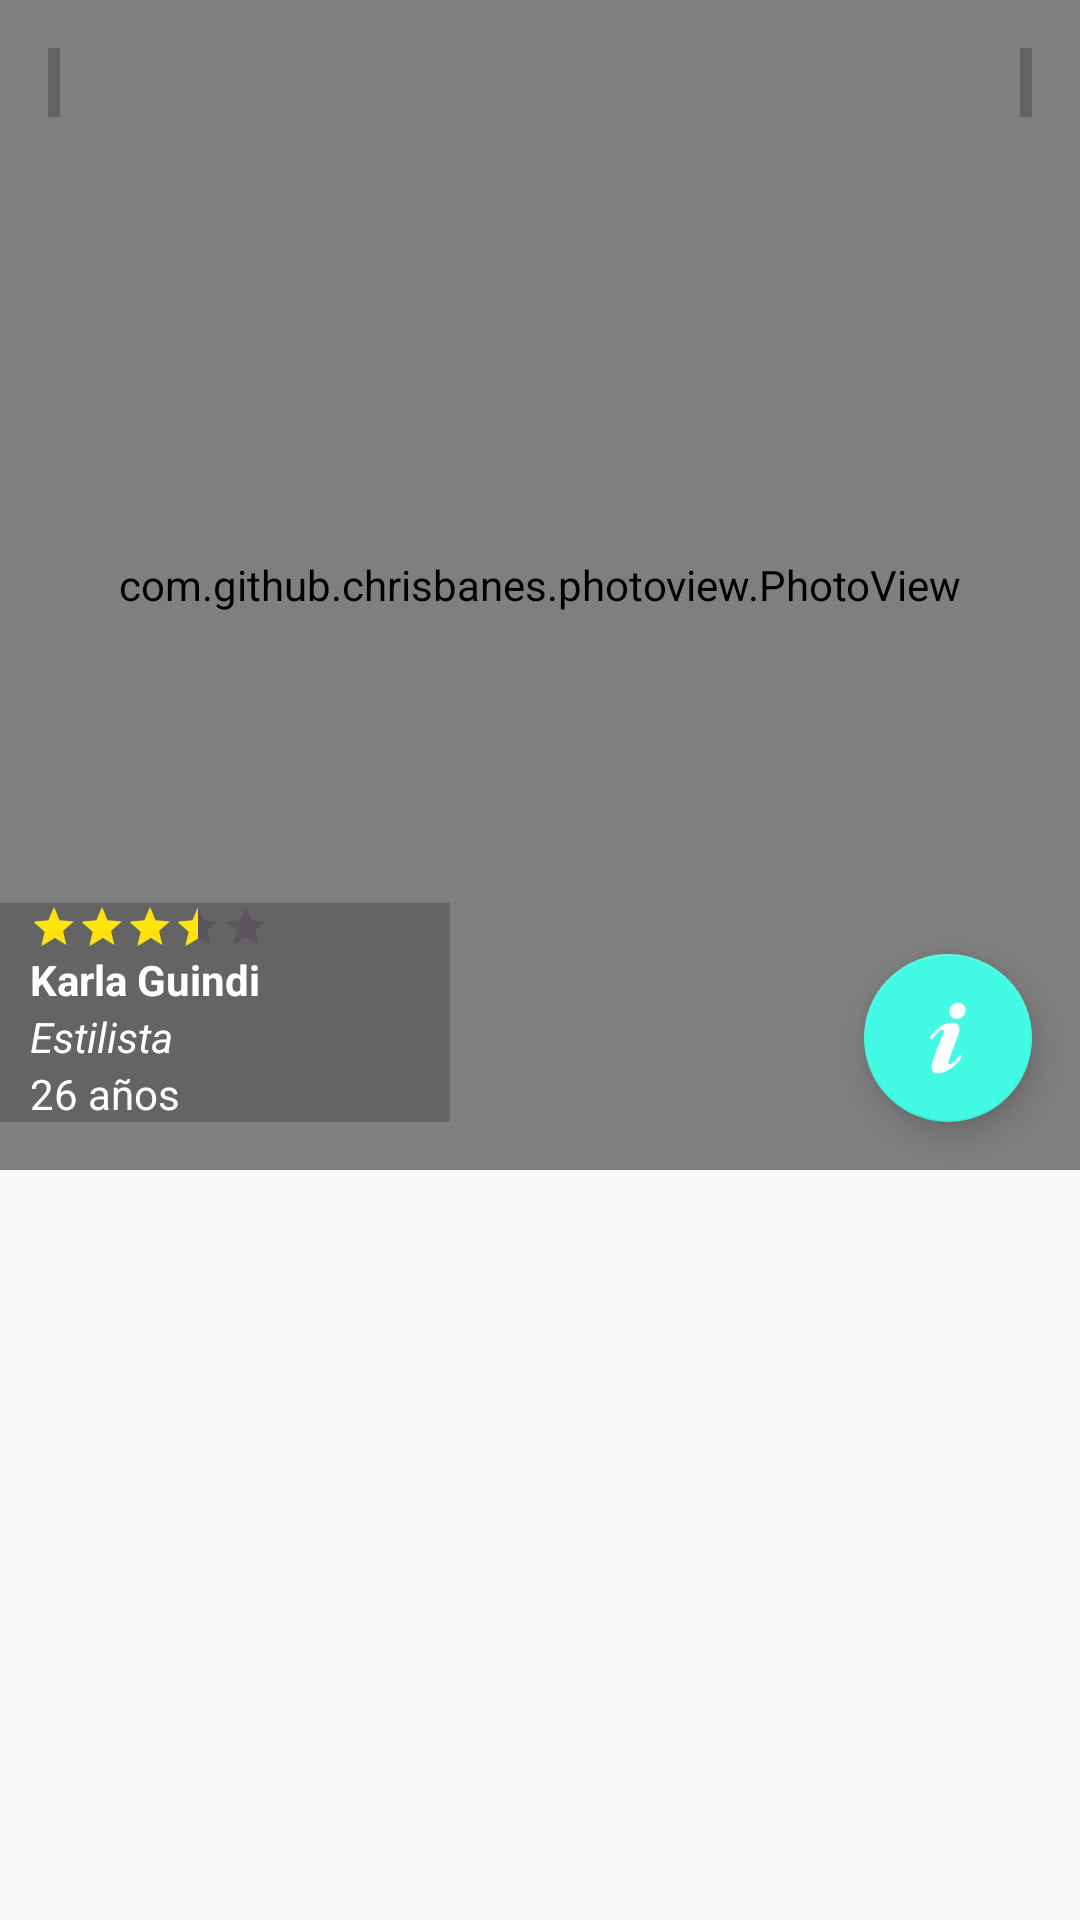

Point at icon controls on the screen. Image size 1080 × 1920, points as point (x, y).
info: point (948, 1038)
